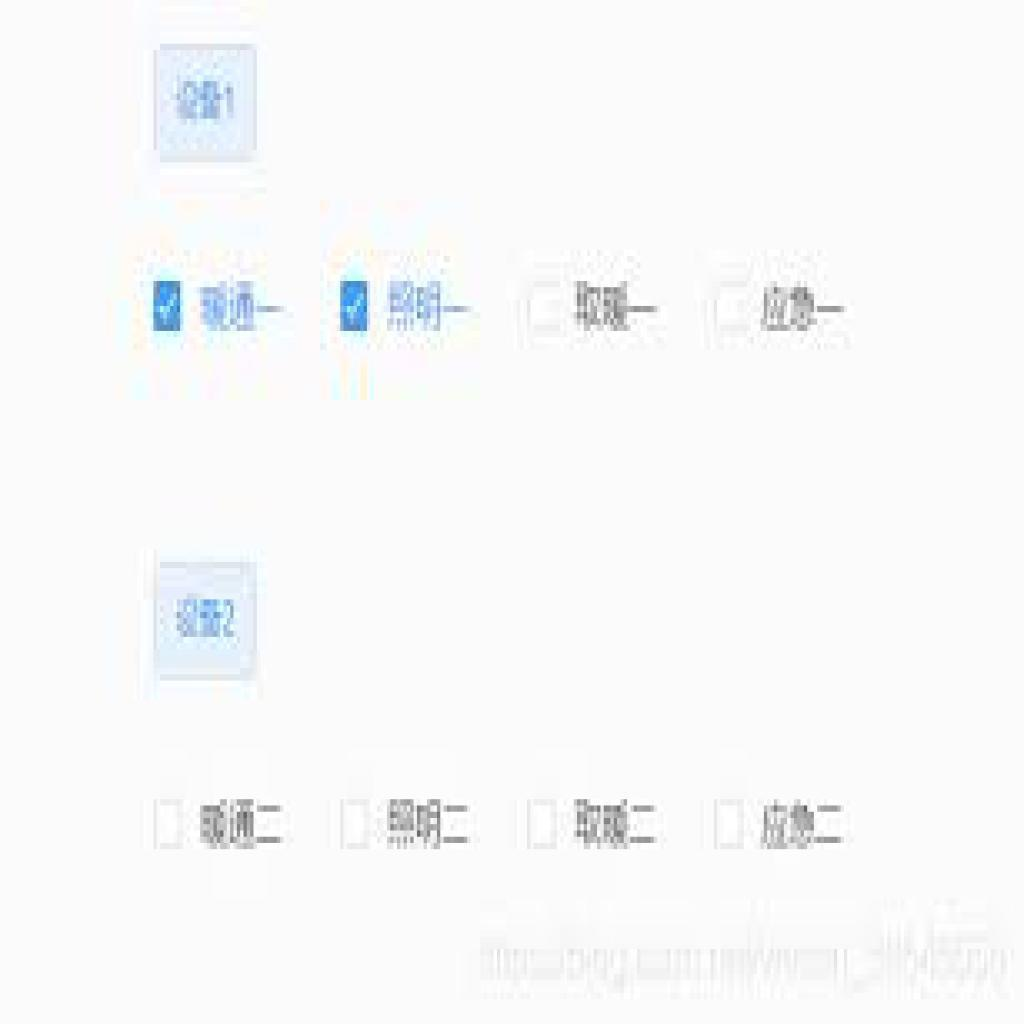checkbox: (711, 794, 748, 850), (149, 800, 185, 849), (340, 794, 373, 847), (527, 283, 563, 328), (338, 282, 369, 333), (526, 797, 556, 848), (154, 285, 182, 331), (719, 287, 749, 329)
icon: (169, 582, 246, 653), (175, 69, 244, 138)
